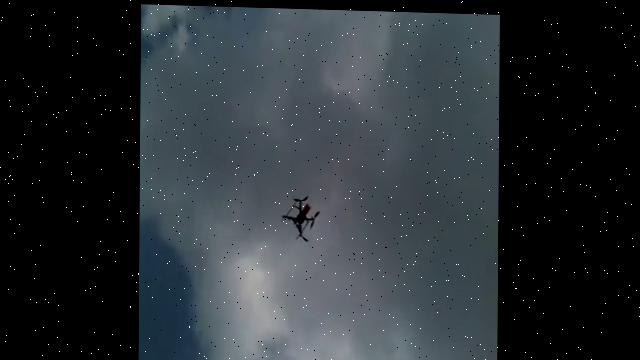drone: (281, 191, 323, 242)
